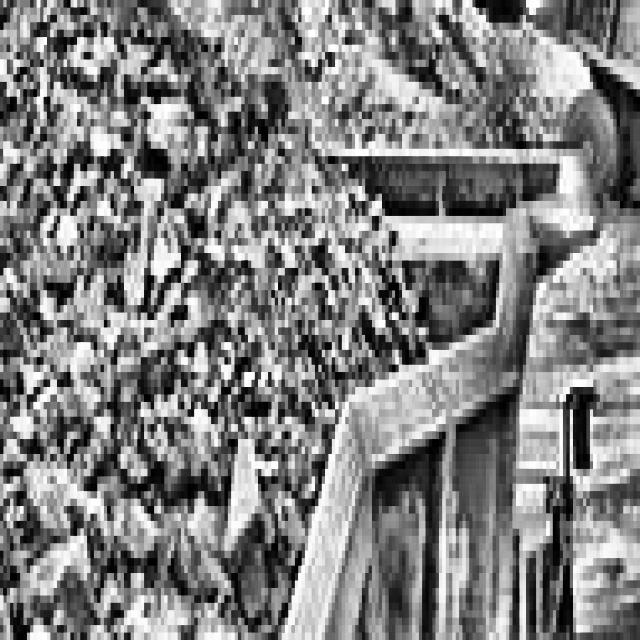dump_truck: (0, 0, 610, 640), (526, 0, 640, 268)
